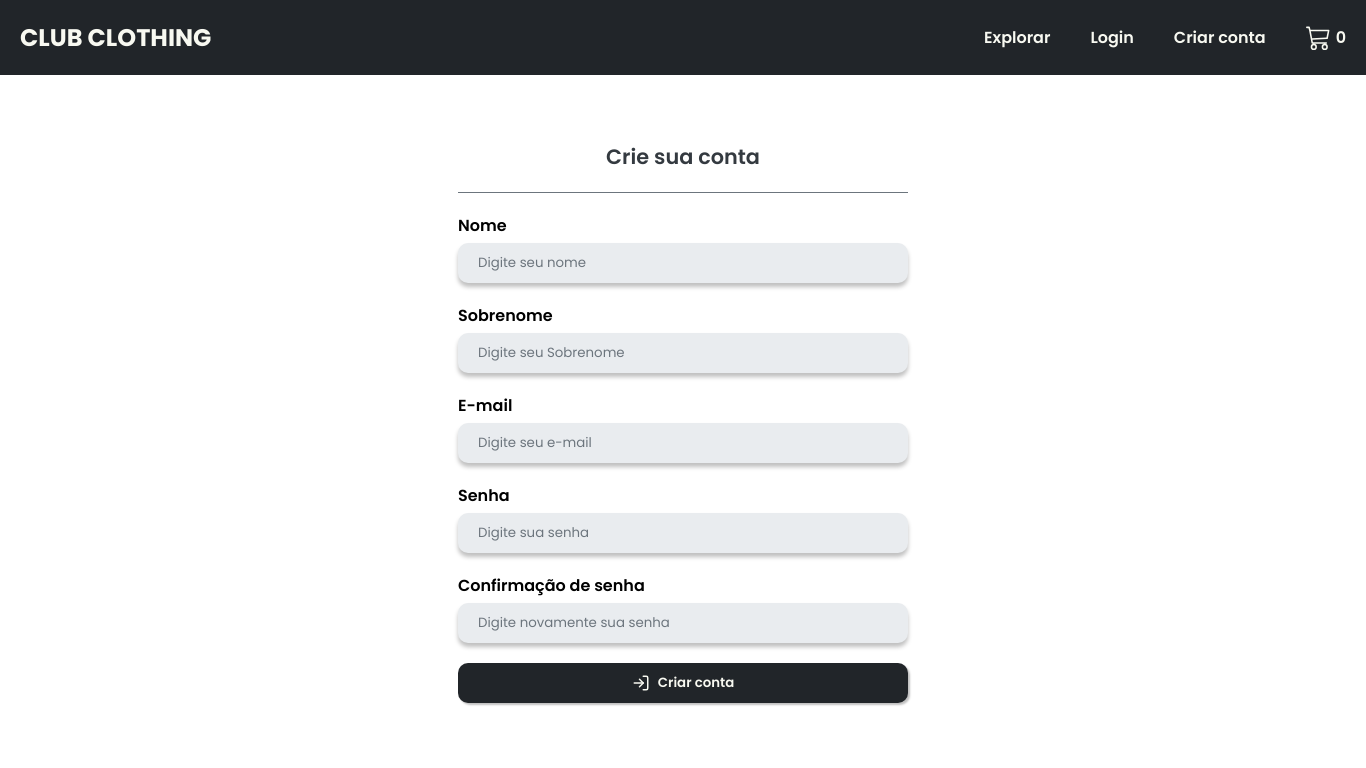
Test: Sign Up › should show error if email already exists
The width and height of the screenshot is (1366, 768).
Type "John" into the field with placeholder "Digite seu nome".
click(683, 262); type("John")  # box x1=458 y1=242 x2=908 y2=282
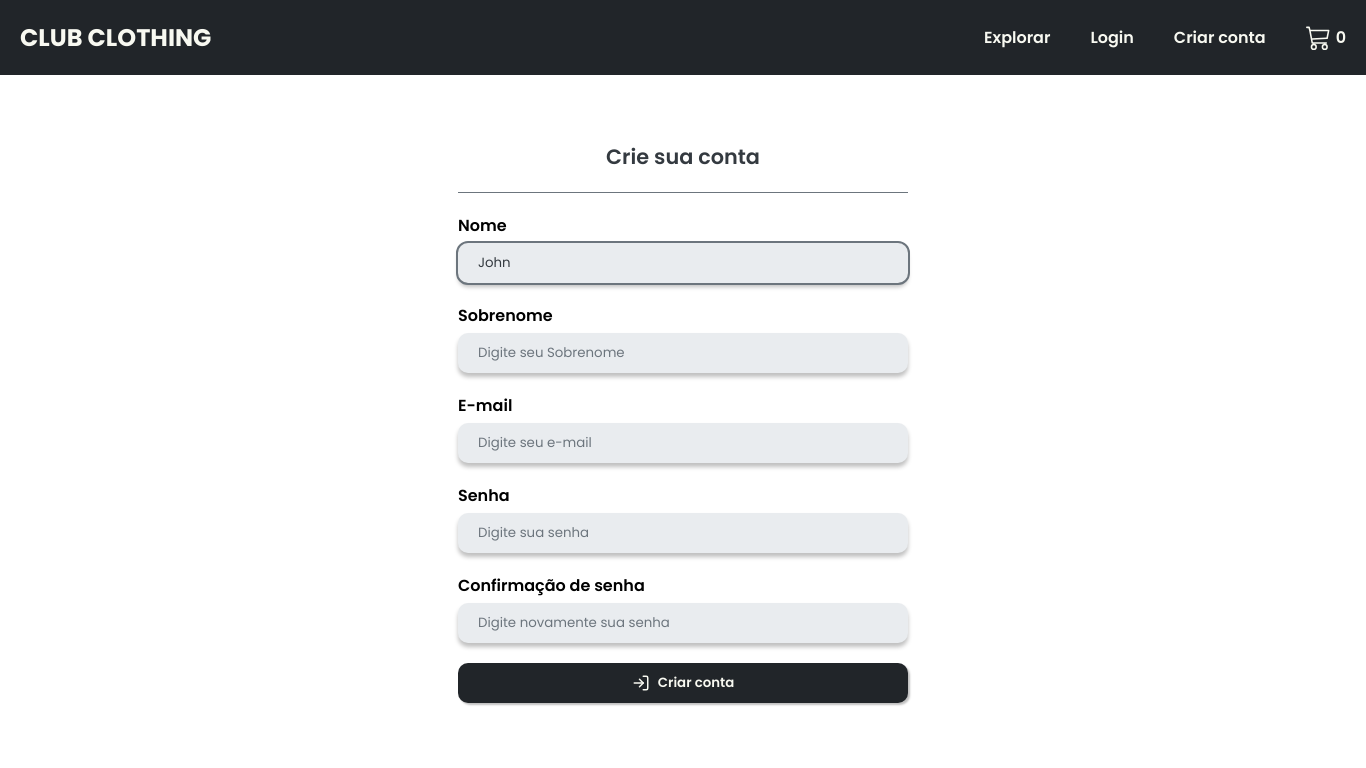
Type "Doe" into the field with placeholder "Digite seu Sobrenome".
click(683, 352); type("Doe")  # box x1=458 y1=332 x2=908 y2=372
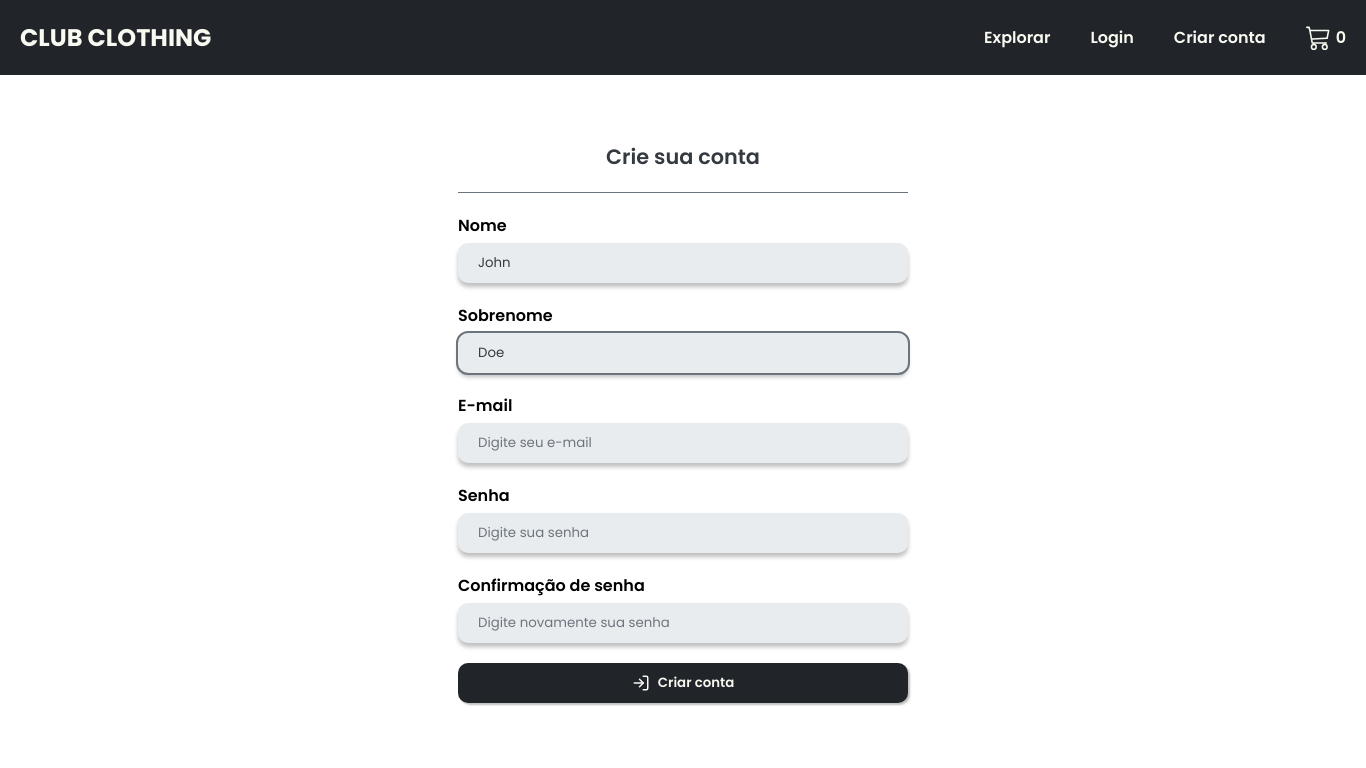
Type "lorem@ipsum.com" into the field with placeholder "Digite seu e-mail".
click(683, 442); type("lorem@ipsum.com")  # box x1=458 y1=422 x2=908 y2=462
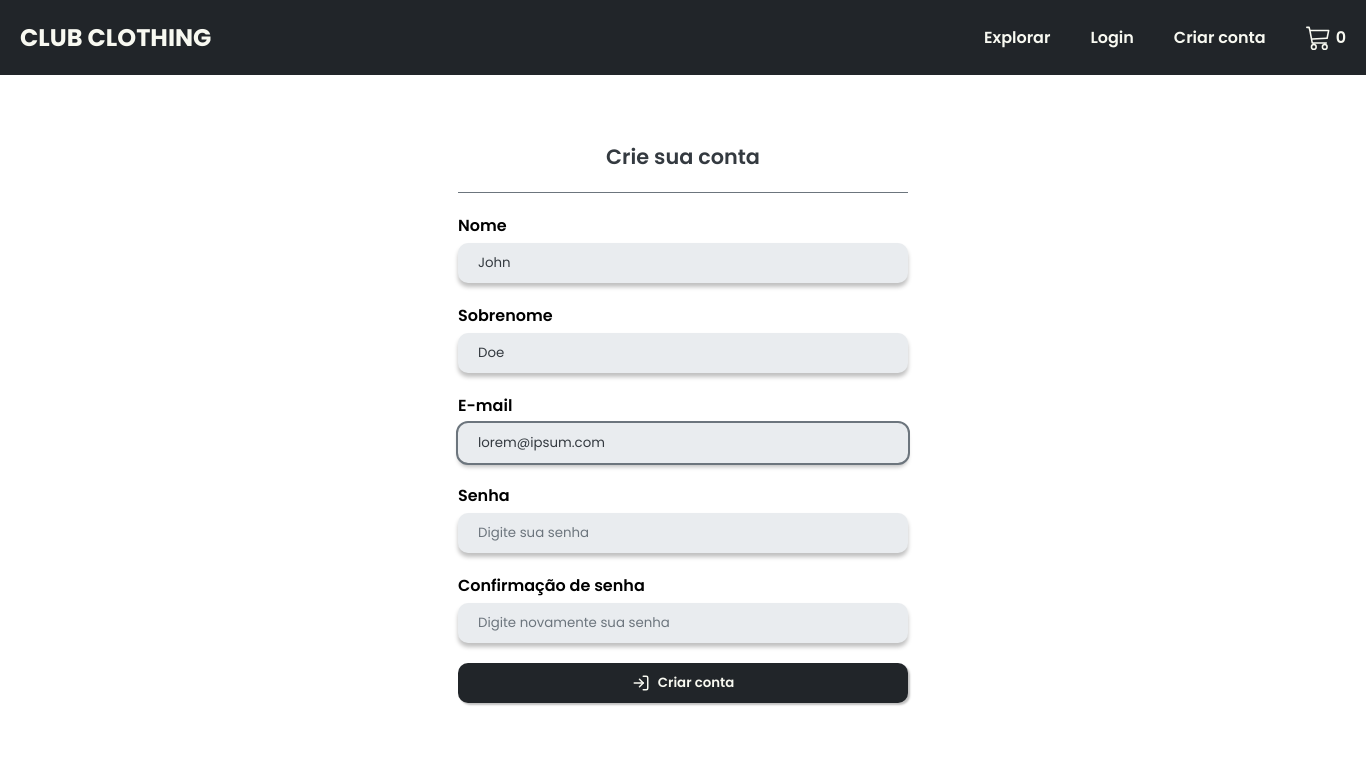
Type "123456" into the password field with placeholder "Digite sua senha".
click(683, 532); type("123456")  # box x1=458 y1=512 x2=908 y2=552
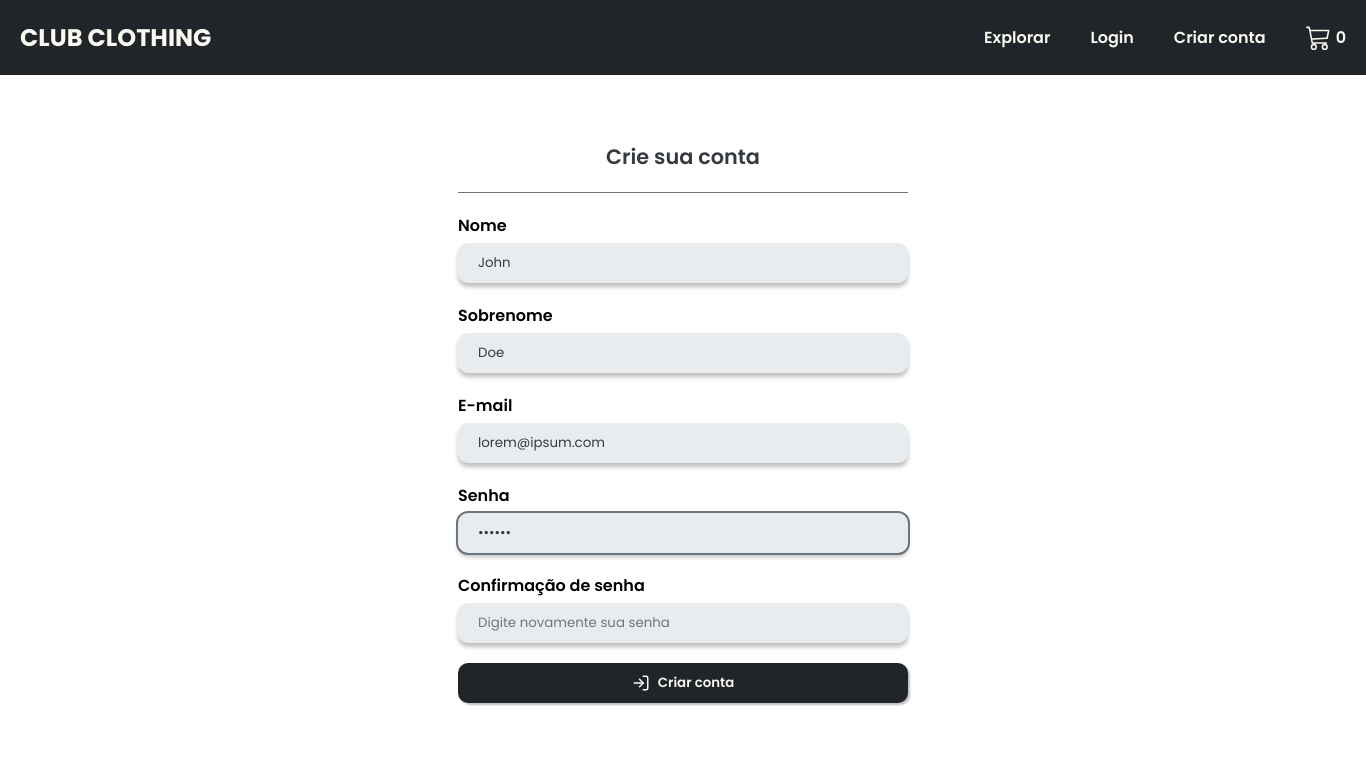
Type "123456" into the password field with placeholder "Digite novamente sua senha".
click(683, 622); type("123456")  # box x1=458 y1=602 x2=908 y2=642
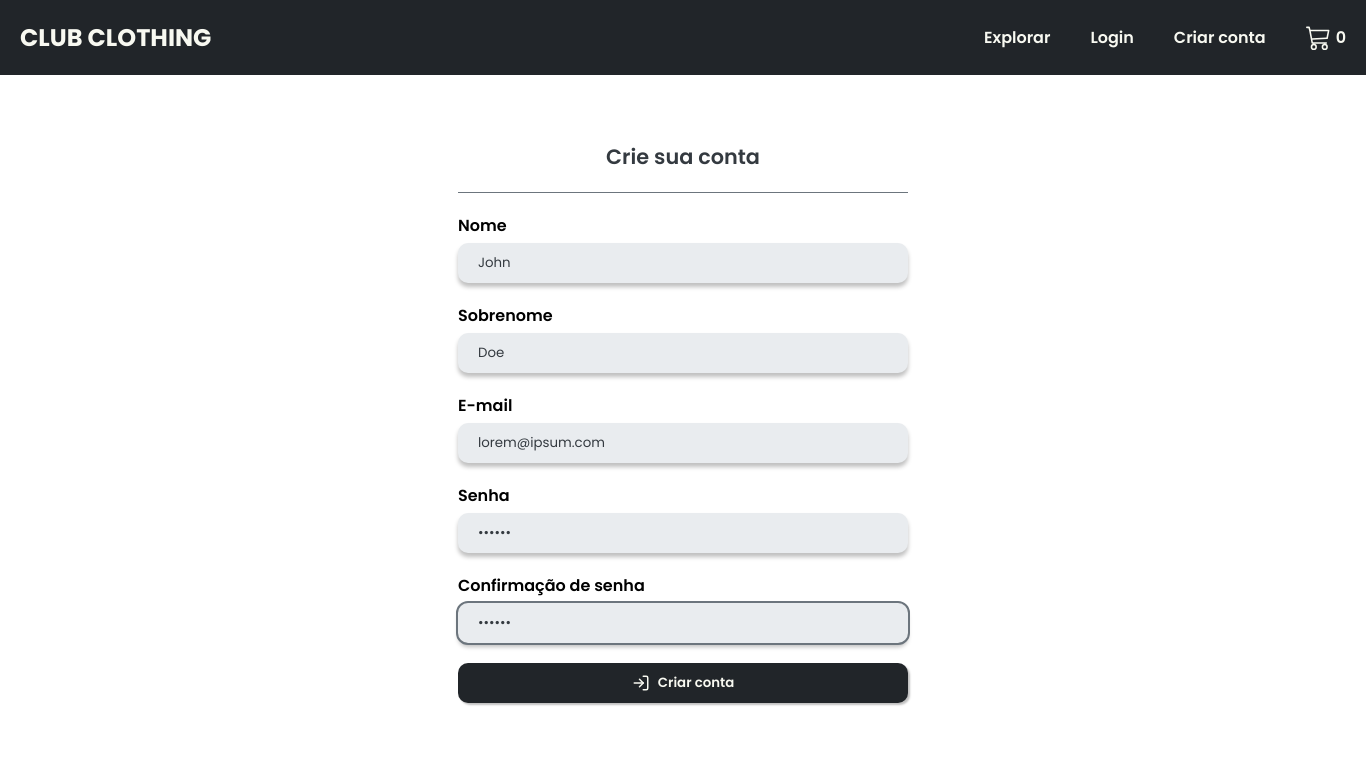
Click the button "Criar conta".
click(683, 682)  # box x1=458 y1=662 x2=908 y2=702
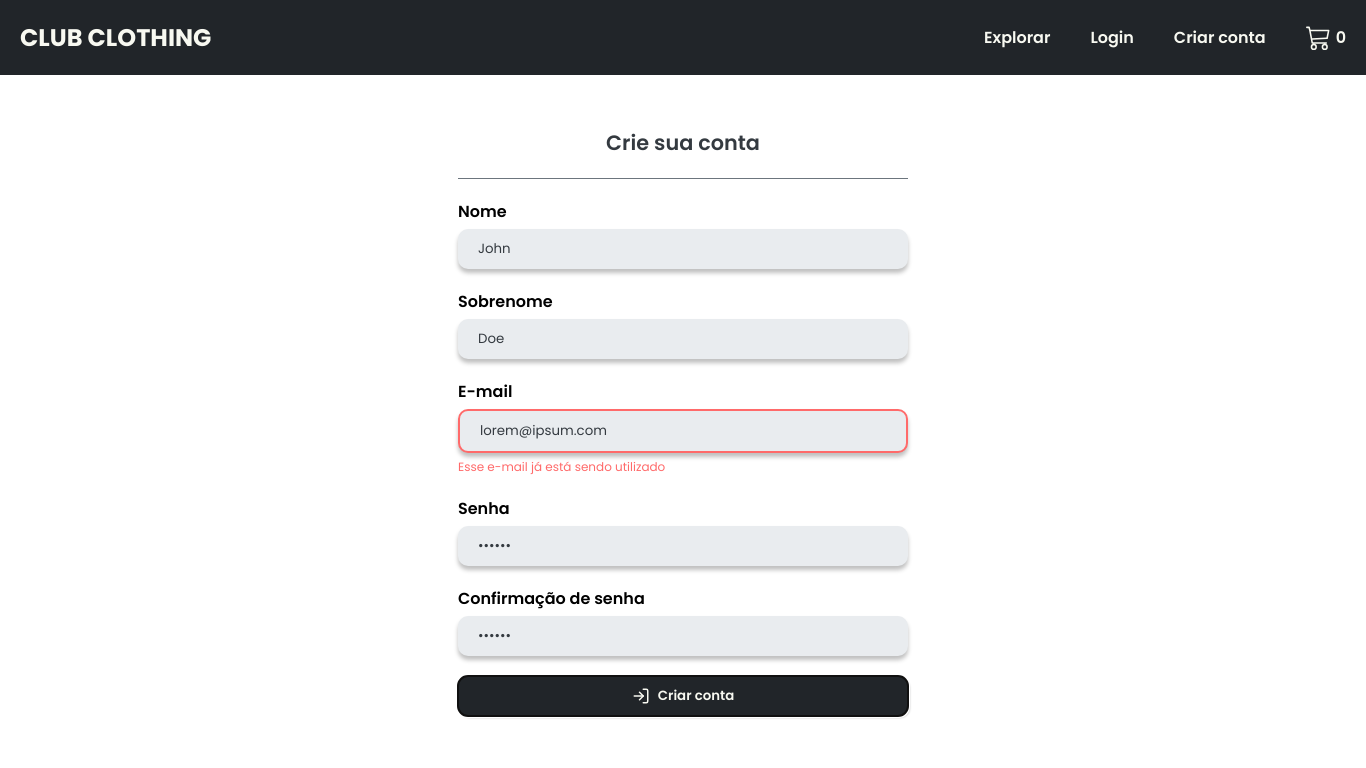
expect the text "Esse e-mail já está sendo utilizado" is shown: met, box x1=458 y1=458 x2=665 y2=475
